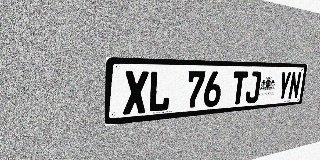6: (203, 71, 223, 107)
7: (185, 71, 206, 109)
J: (245, 71, 262, 104)
L: (148, 71, 171, 113)
N: (288, 72, 302, 100)
T: (230, 71, 248, 105)
X: (123, 71, 149, 115)
Y: (277, 72, 292, 101)
